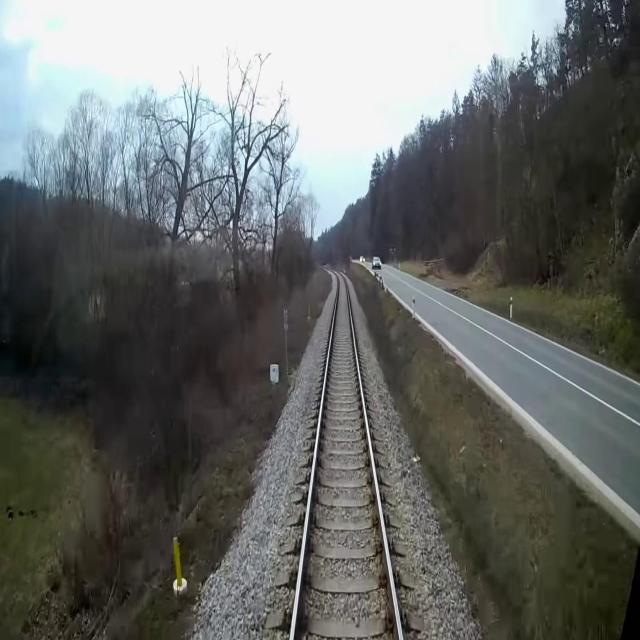rail-track: (293, 271, 398, 639)
